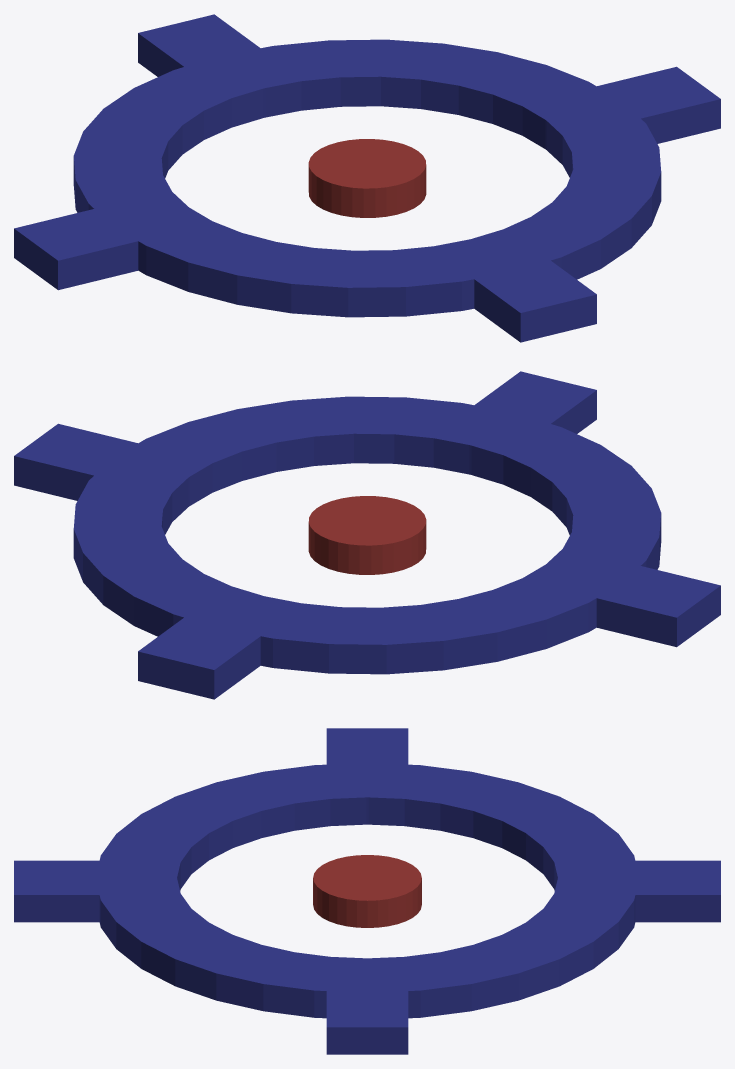
File: target.glb
3 views of the same model, one above another, from view 1: azimuth 30°, elevation 25°; view 2: azimuth 150°, elevation 25°; view 3: azimuth 270°, elevation 25° (orthographic). The views are drawn at different scales.
Visible parts, largest first — view 1: Circle.002, Circle.001; view 2: Circle.002, Circle.001; view 3: Circle.002, Circle.001.
Boxes of the visible parts, x1,y1,x2,y2 form: Circle.002: (14,14,720,342); Circle.001: (308,139,426,217); Circle.002: (14,371,720,699); Circle.001: (308,496,426,574); Circle.002: (14,728,720,1054); Circle.001: (313,855,421,927).
Size of the model in its own units: 2.6 by 0.1106 by 2.6.
